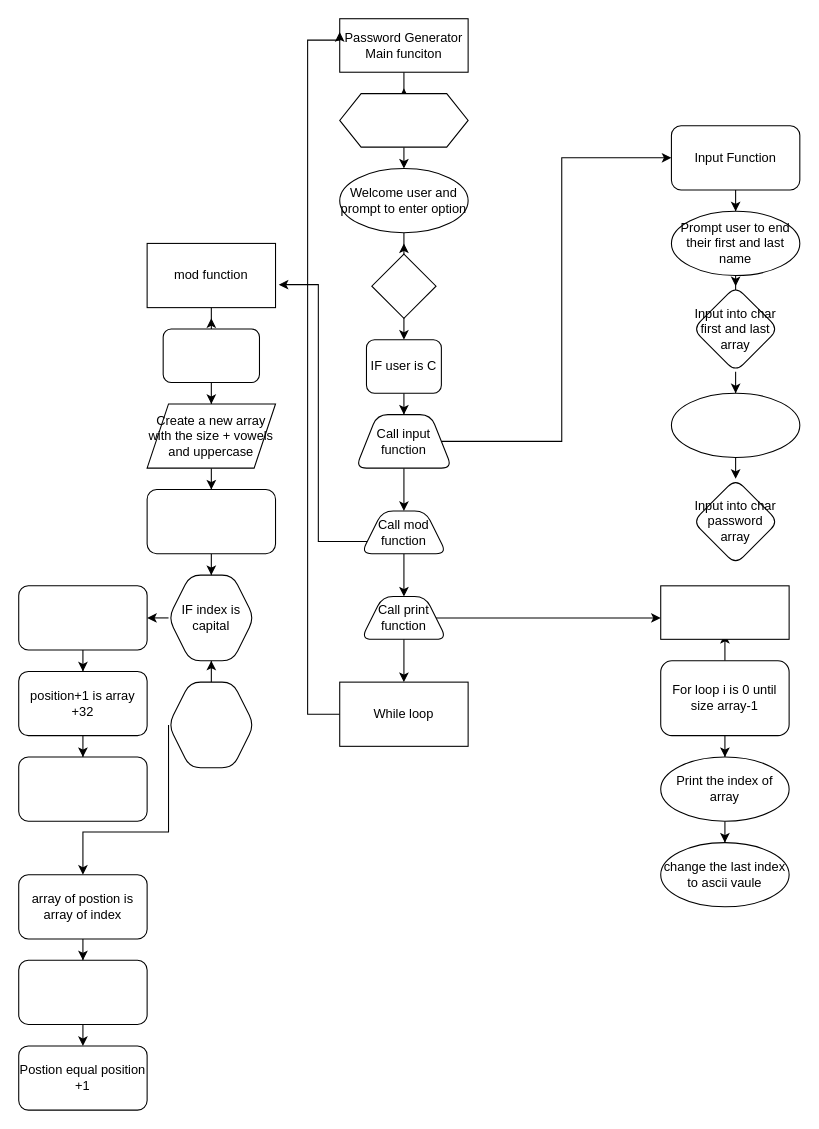
The diagram is 819 pixels wide and 1129 high, and some of its shapes have lost their labels. The centre of each missing label's shape, as x and y in pixels:
array of postion+1 is array of index: the point at 82,992
Count the number of vowel and uppercase: the point at 210,355
IF index is vowel: the point at 210,724
Input option: the point at 403,285
position is underscore: the point at 82,617
Positon = postion+2: the point at 82,788
Print function: the point at 724,612
Prompt user to enter the password: the point at 735,424
Use for loop from 0 to new size: the point at 211,521
While option is not quit: the point at 403,120
